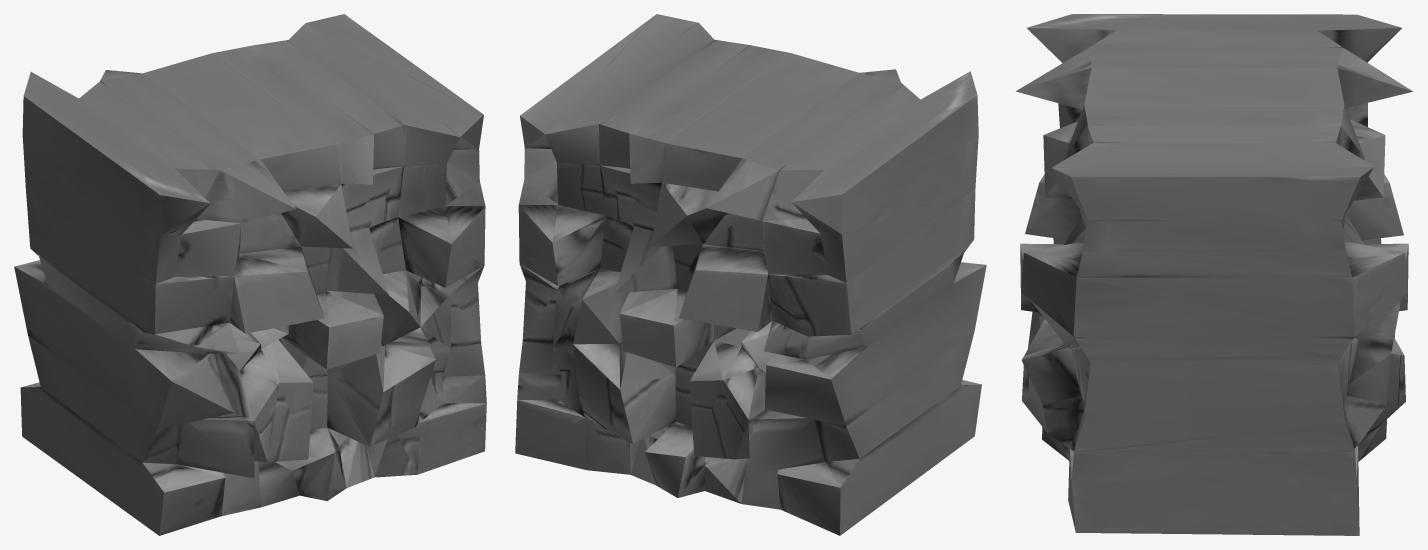
File: wall-balanced.glb
3 renders of one model, left to right at view 1: azimuth 30°, elevation 25°; view 2: azimuth 150°, elevation 25°; view 3: azimuth 270°, elevation 25°, orthographic. The views are drawn at different scales.
Parts seen in each view (by area): view 1: wall-balanced; view 2: wall-balanced; view 3: wall-balanced.
Boxes of the visible parts, x1,y1,x2,y2 form: wall-balanced: (14,14,486,535); wall-balanced: (515,14,986,535); wall-balanced: (1016,14,1412,535).
Size of the model in its own units: 1 by 1 by 1.
Materials: 1 (1 with a texture image).
